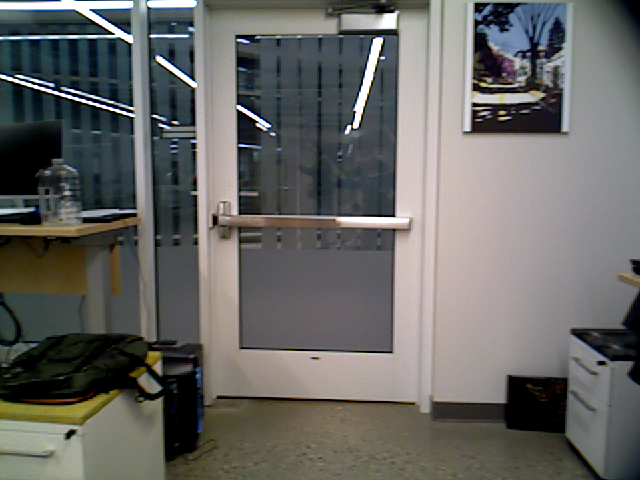painting3: (465, 1, 570, 132)
